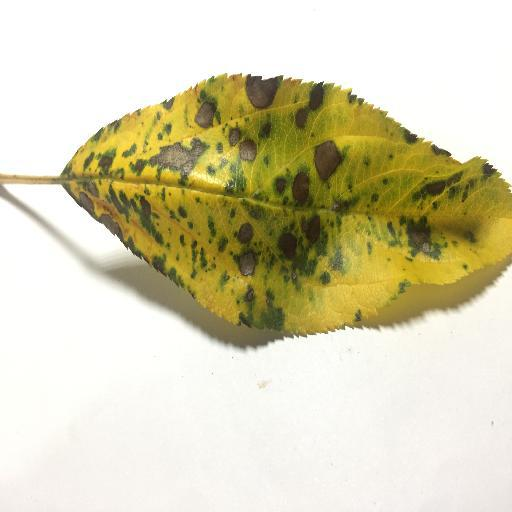Brown_Spot: (408, 213, 441, 253), (242, 76, 279, 107), (314, 145, 346, 176), (413, 179, 454, 198), (147, 153, 196, 166), (98, 217, 126, 237), (93, 159, 125, 174), (114, 193, 143, 209), (77, 192, 98, 212), (197, 105, 216, 123), (239, 257, 256, 276), (313, 83, 325, 107), (139, 194, 154, 211), (233, 230, 252, 243), (298, 176, 305, 208), (242, 143, 256, 159), (229, 132, 242, 148)
